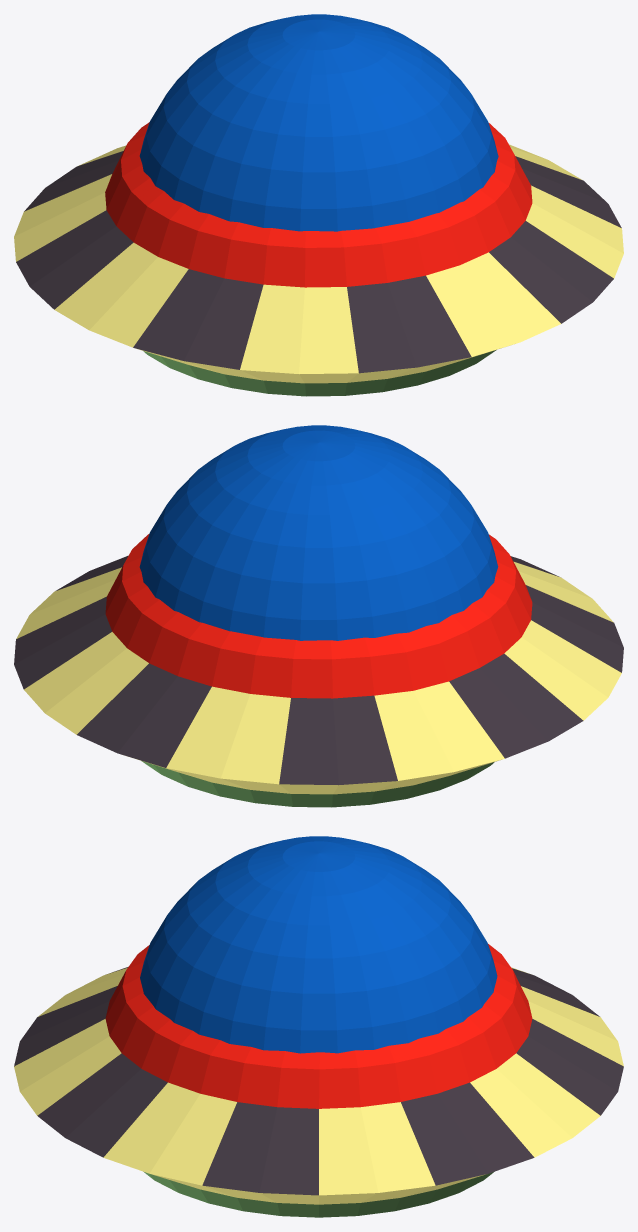
File: UFO11.obj
The picture shows the model from 3 angles, top to bottom: view 1: azimuth 30°, elevation 25°; view 2: azimuth 150°, elevation 25°; view 3: azimuth 270°, elevation 25°; orthographic projection.
Parts seen in each view (by area): view 1: Sphere_Sphere.001; view 2: Sphere_Sphere.001; view 3: Sphere_Sphere.001.
Part boxes in pixels (x1=…): Sphere_Sphere.001: x1=14, y1=14, x2=623, y2=396; Sphere_Sphere.001: x1=14, y1=425, x2=623, y2=807; Sphere_Sphere.001: x1=14, y1=836, x2=623, y2=1217.
Bounding box in the file's own units: 3.27 × 1.66 × 3.27.
